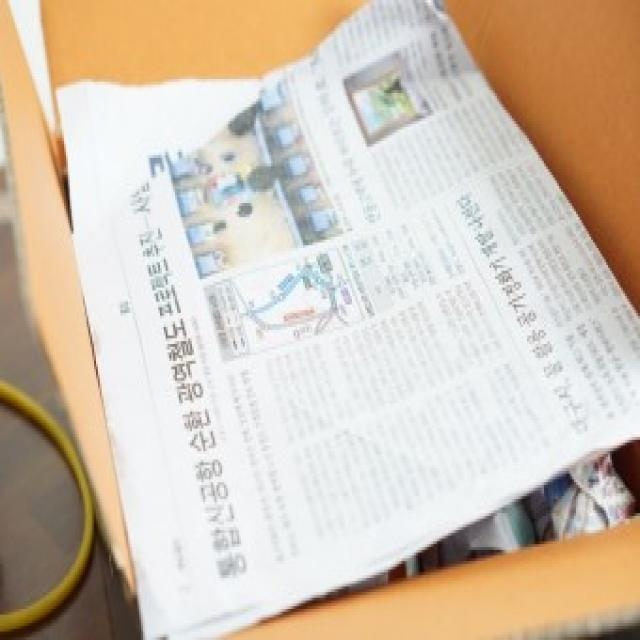Newspaper: (56, 0, 640, 640)
